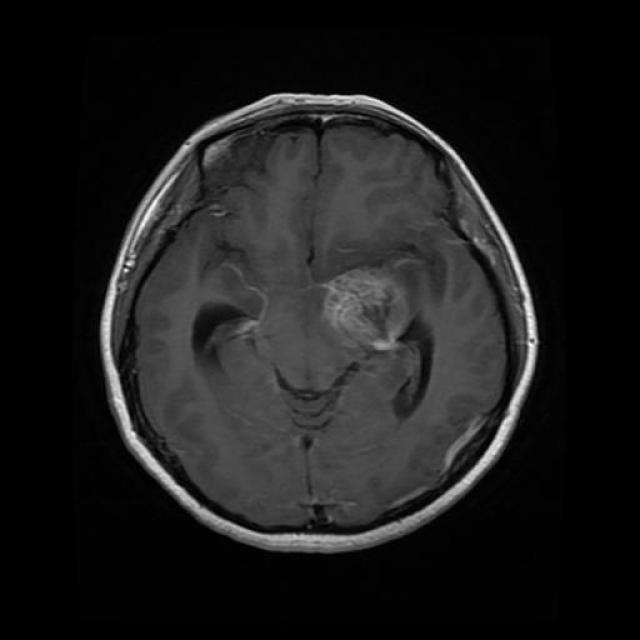glioma: (322, 265, 412, 347)
